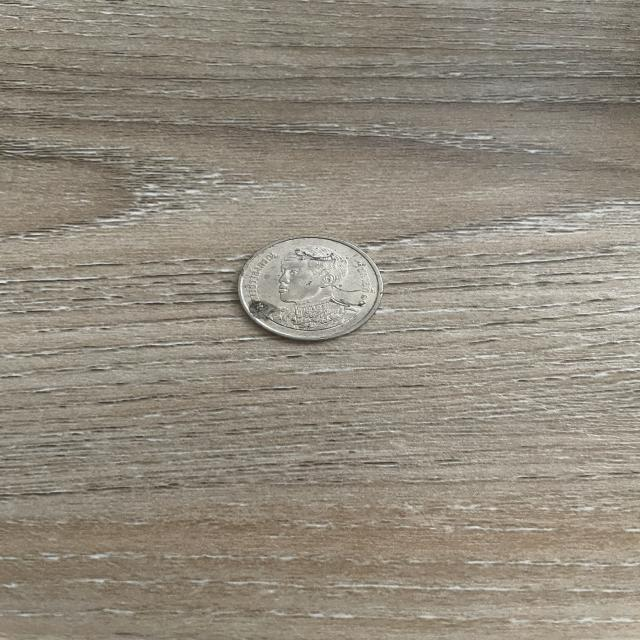1 Bath: (226, 230, 395, 349)
